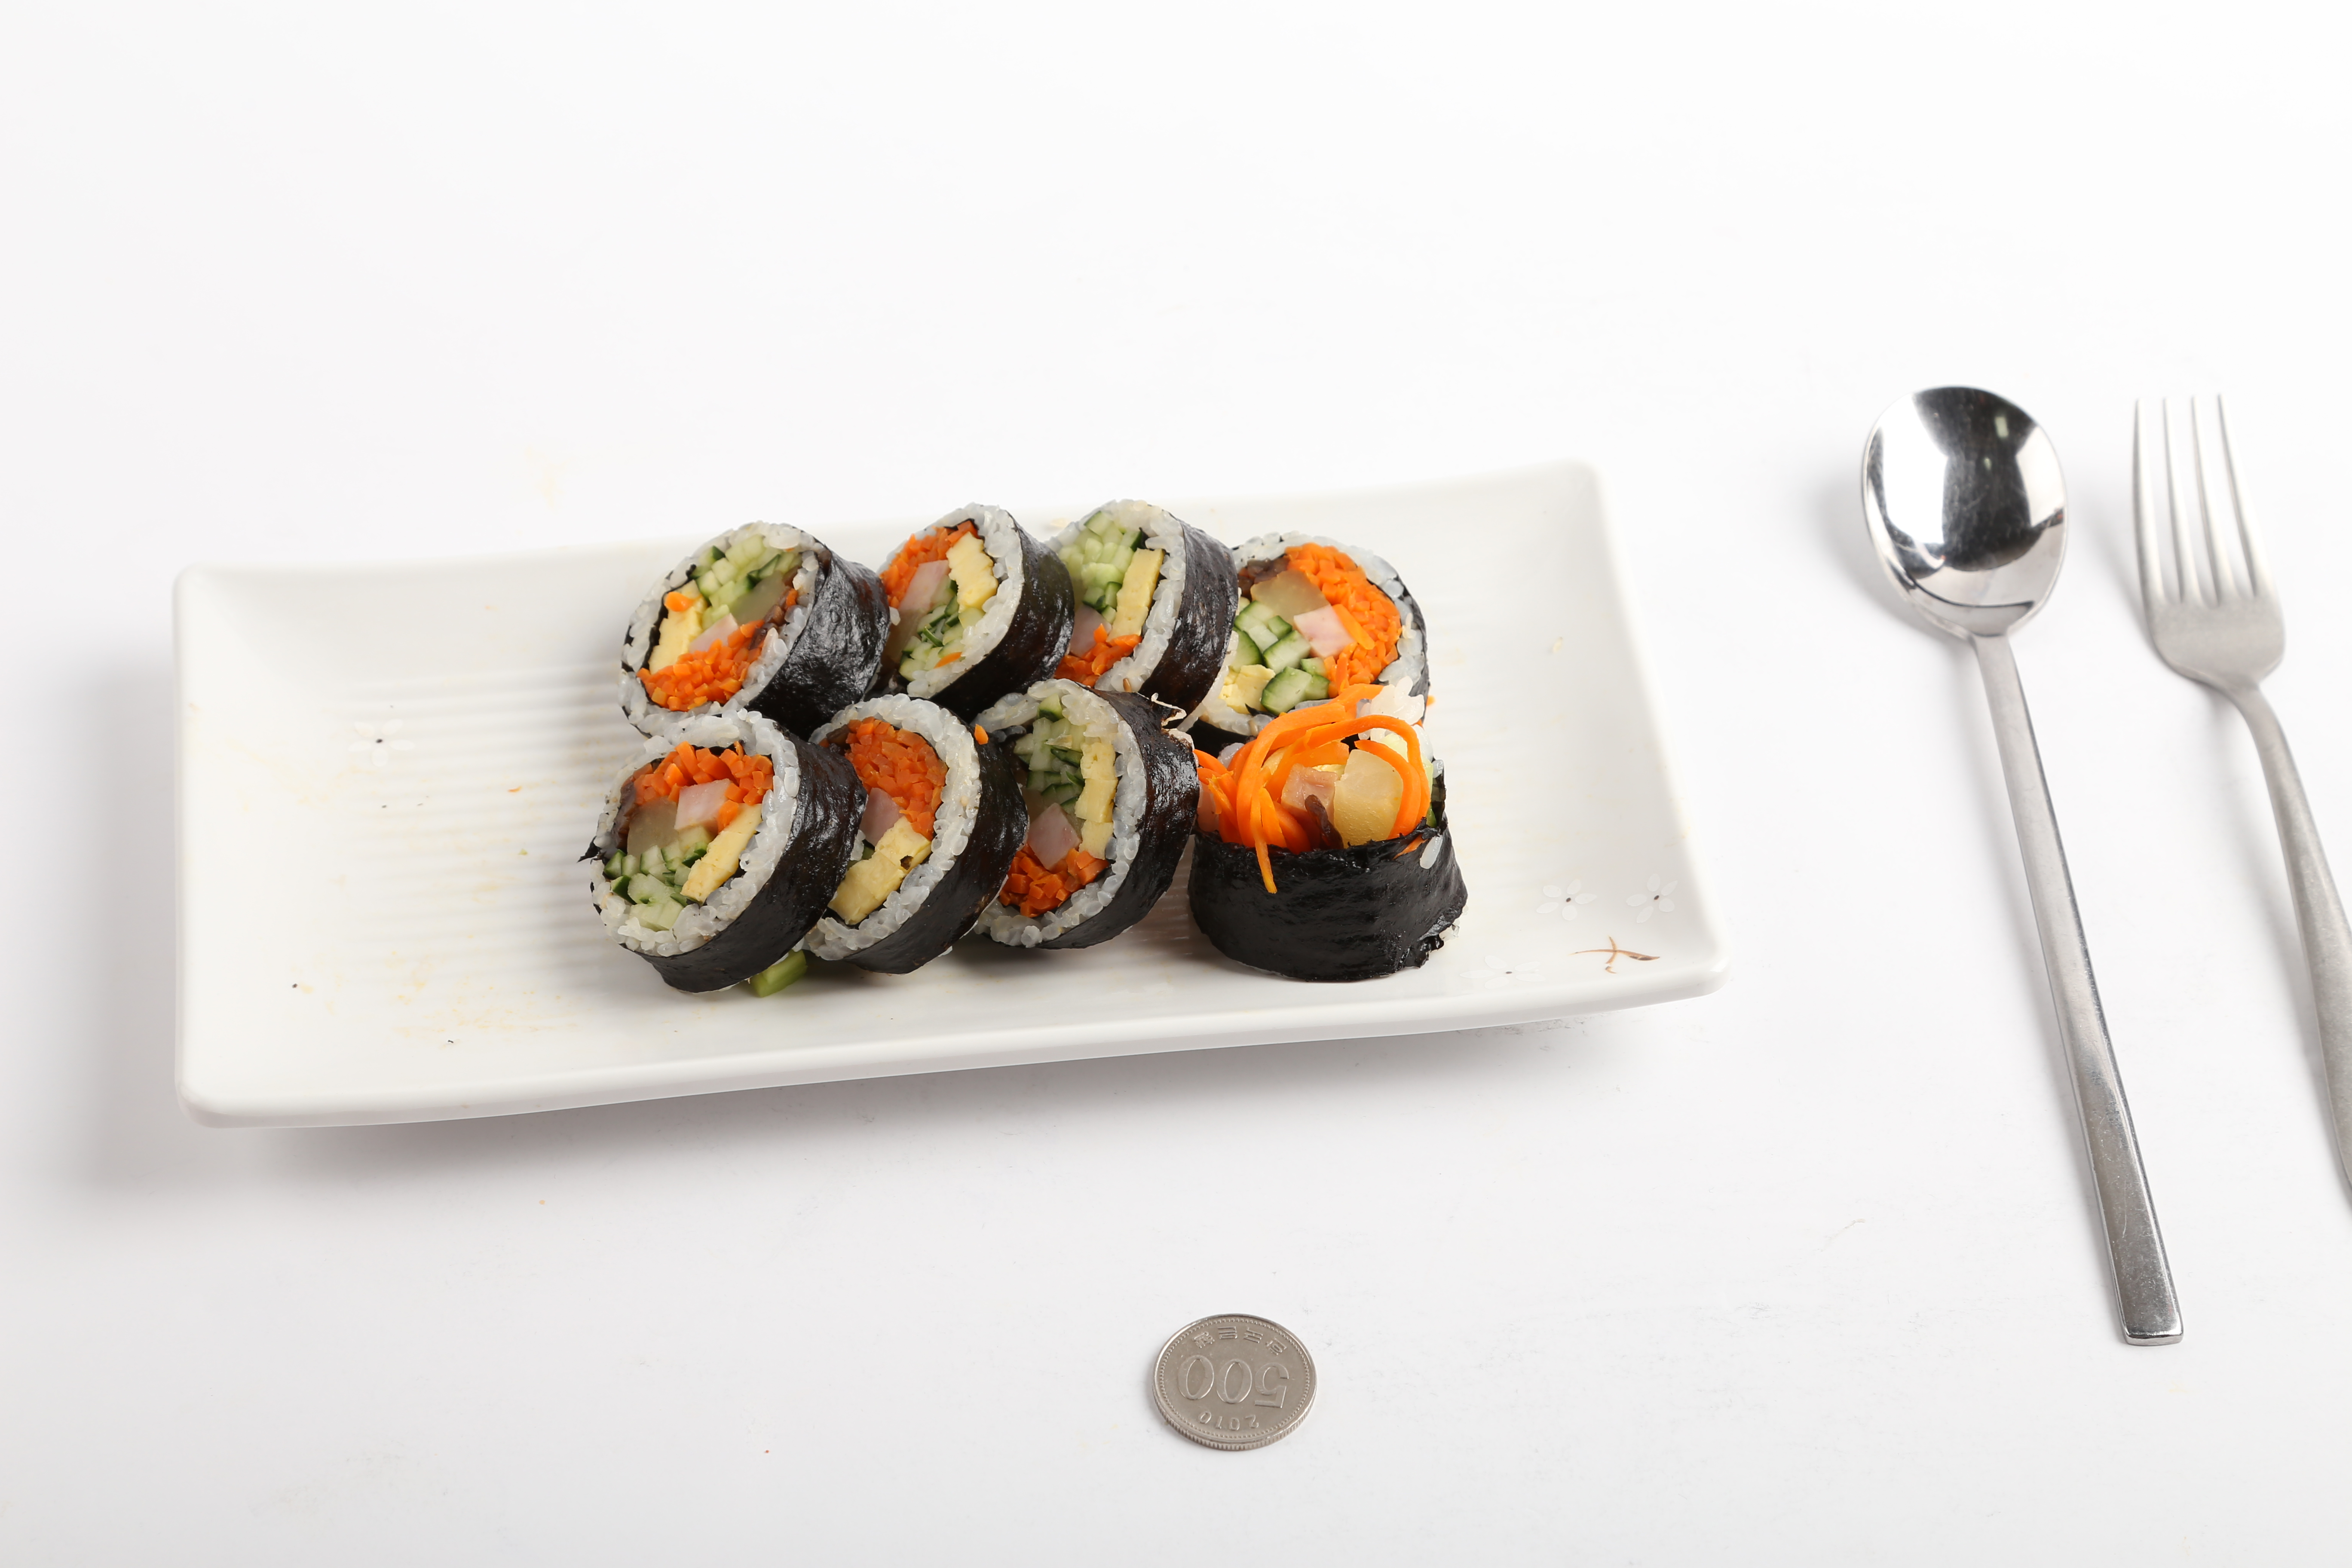dish: (156, 450, 1734, 1174)
ref_coin: (1139, 1300, 1321, 1459)
ref_fork: (2119, 380, 2296, 773)
ref_spoon: (1853, 374, 2067, 700)
김밥: (570, 493, 1472, 1010)
